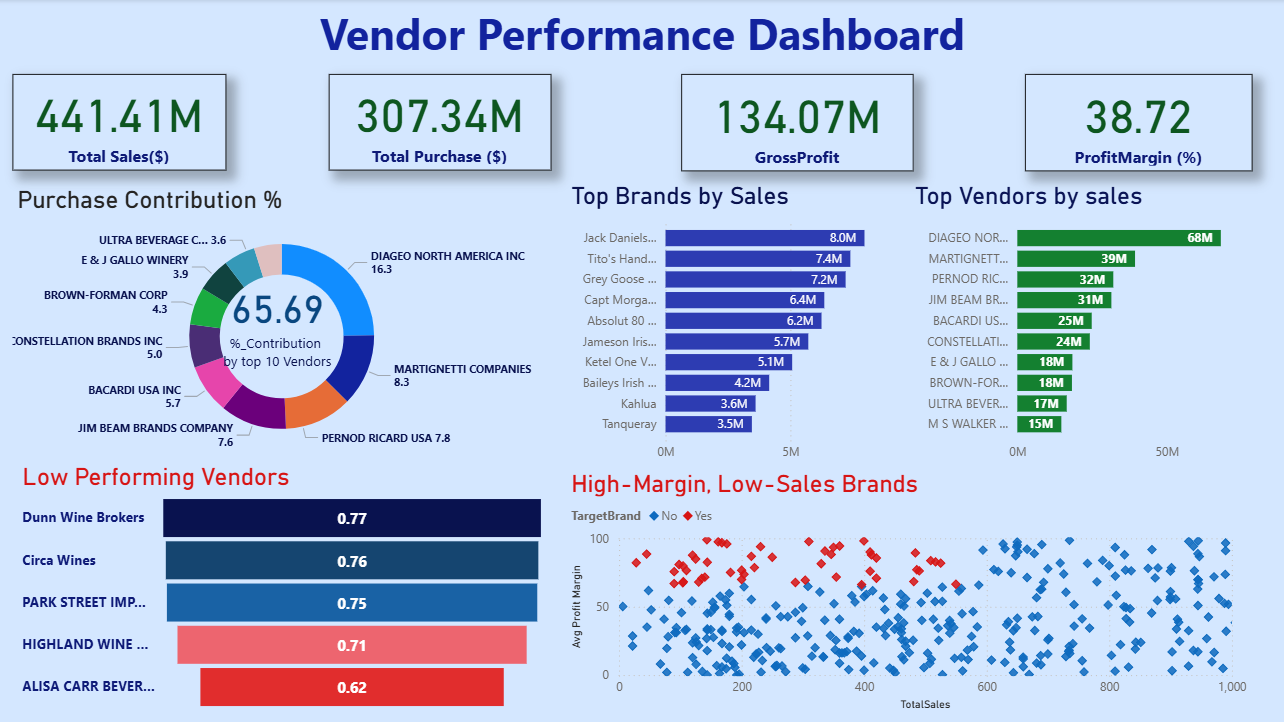

This screenshot's page, from the dashboard's own definition file:
{"tool":"powerbi","page":{"name":"Page 1","canvas":[1280,720],"ordinal":0},"visuals":[{"type":"funnel","title":"Low Performing Vendors","fields":{"Y":["Avg(low_stockturnover.Avrage_Turnover)"],"Category":["low_stockturnover.VendorName"]},"box":[17,459.6,531.1,253.6],"z":1000},{"type":"donutChart","title":"Purchase Contribution %","fields":{"Category":["Purchase_contribution.VendorName"],"Y":["Sum(Purchase_contribution.%_Contribution)"]},"box":[11.9,185.5,536.2,274],"z":2000},{"type":"card","fields":{"Values":["Sum(Purchase_contribution.%_Contribution)"]},"box":[216.8,238.8,119.4,149.6],"z":3000},{"type":"scatterChart","title":"High-Margin, Low-Sales Brands","fields":{"Category":["BrandPerformance.Description"],"X":["Sum(BrandPerformance.TotalSales)"],"Y":["Sum(BrandPerformance.AvgProfitMargin)"],"Series":["BrandPerformance.TargetBrand"]},"box":[563.4,468.1,682.6,245.1],"z":4000},{"type":"barChart","title":"Top Vendors by sales","fields":{"Category":["vendor_sales_summary.VendorName"],"Y":["Sum(vendor_sales_summary.TotalSalesDollars)"]},"box":[905.6,181.6,374.4,287.4],"z":5000},{"type":"barChart","title":"Top Brands by Sales","fields":{"Category":["vendor_sales_summary.Description"],"Y":["Sum(vendor_sales_summary.TotalSalesDollars)"]},"box":[563.5,181.6,345.8,287.4],"z":6000},{"type":"card","fields":{"Values":["Sum(vendor_sales_summary.TotalSalesDollars)"]},"box":[12.4,74.6,212.7,95.8],"z":7000},{"type":"card","fields":{"Values":["Sum(vendor_sales_summary.TotalPurchaseDollars)"]},"box":[327.2,74.6,221.4,95.8],"z":8000},{"type":"card","fields":{"Values":["Sum(vendor_sales_summary.GrossProfit)"]},"box":[678,74.6,231.4,97],"z":9000},{"type":"card","fields":{"Values":["Avg(vendor_sales_summary.ProfitMargin)"]},"box":[1020,74.6,226.4,97],"z":10000},{"type":"textbox","box":[286.1,0,706.6,70.9],"z":10001}]}

Visuals, with their boxes in screenshot pixels (x1, y1, x2, y2), scaled from the page's 1280x720 canvas onto the 1284x722 screenshot:
"Low Performing Vendors" funnel: l=17, t=461, r=550, b=715
"Purchase Contribution %" donutChart: l=12, t=186, r=550, b=461
card - Sum(Purchase_contribution.%_Contribution): l=217, t=239, r=337, b=389
"High-Margin, Low-Sales Brands" scatterChart: l=565, t=469, r=1250, b=715
"Top Vendors by sales" barChart: l=908, t=182, r=1283, b=470
"Top Brands by Sales" barChart: l=565, t=182, r=912, b=470
card - Sum(vendor_sales_summary.TotalSalesDollars): l=12, t=75, r=226, b=171
card - Sum(vendor_sales_summary.TotalPurchaseDollars): l=328, t=75, r=550, b=171
card - Sum(vendor_sales_summary.GrossProfit): l=680, t=75, r=912, b=172
card - Avg(vendor_sales_summary.ProfitMargin): l=1023, t=75, r=1250, b=172
textbox: l=287, t=0, r=996, b=71
